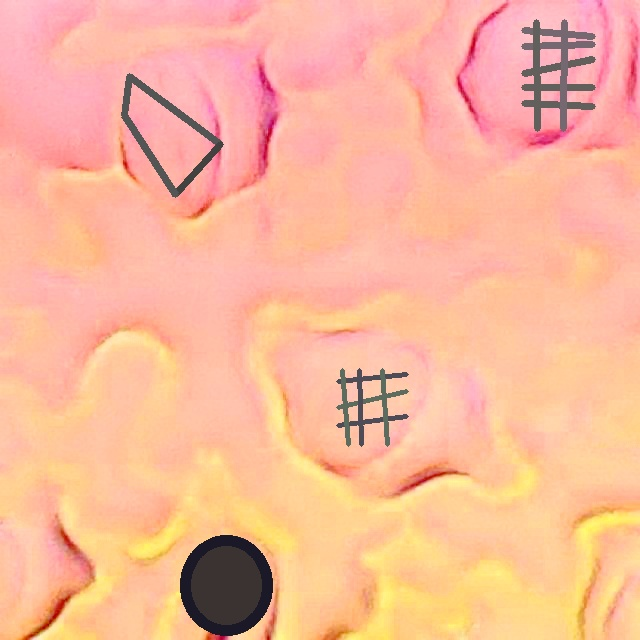close: (122, 73, 222, 197), (521, 20, 595, 130), (336, 369, 407, 446)
open: (180, 535, 272, 635)
